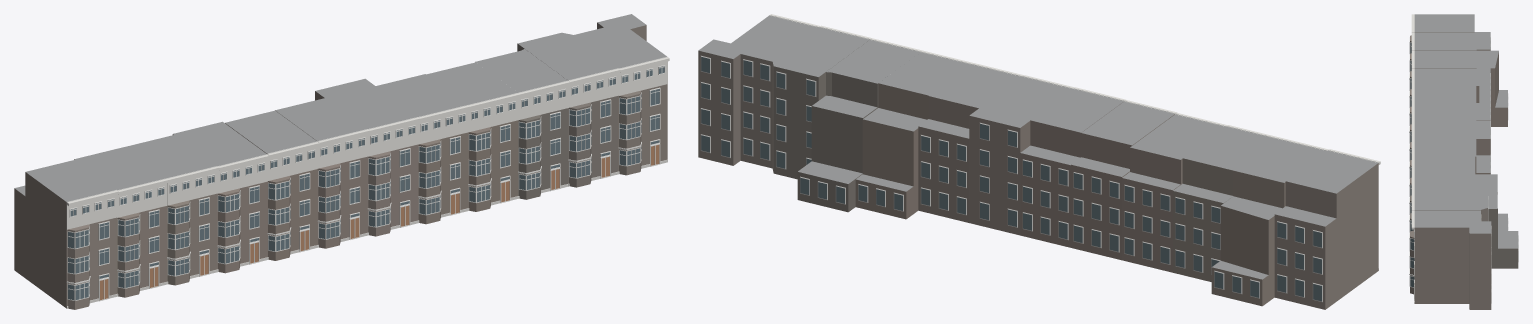
Rendered from chunk-face-hoendiep-5-35-r2.glb.
The picture shows the model from 3 angles, left to right: view 1: azimuth 30°, elevation 25°; view 2: azimuth 150°, elevation 25°; view 3: azimuth 270°, elevation 25°; orthographic projection. The views are drawn at different scales.
Parts seen in each view (by area): view 1: face-hoendiep-5-35-r2; view 2: face-hoendiep-5-35-r2; view 3: face-hoendiep-5-35-r2.
Boxes of the visible parts, x1,y1,x2,y2 form: face-hoendiep-5-35-r2: (14, 14, 669, 309); face-hoendiep-5-35-r2: (698, 14, 1380, 309); face-hoendiep-5-35-r2: (1409, 14, 1518, 309).
Size of the model in its own units: 75.13 by 12.42 by 15.86.
